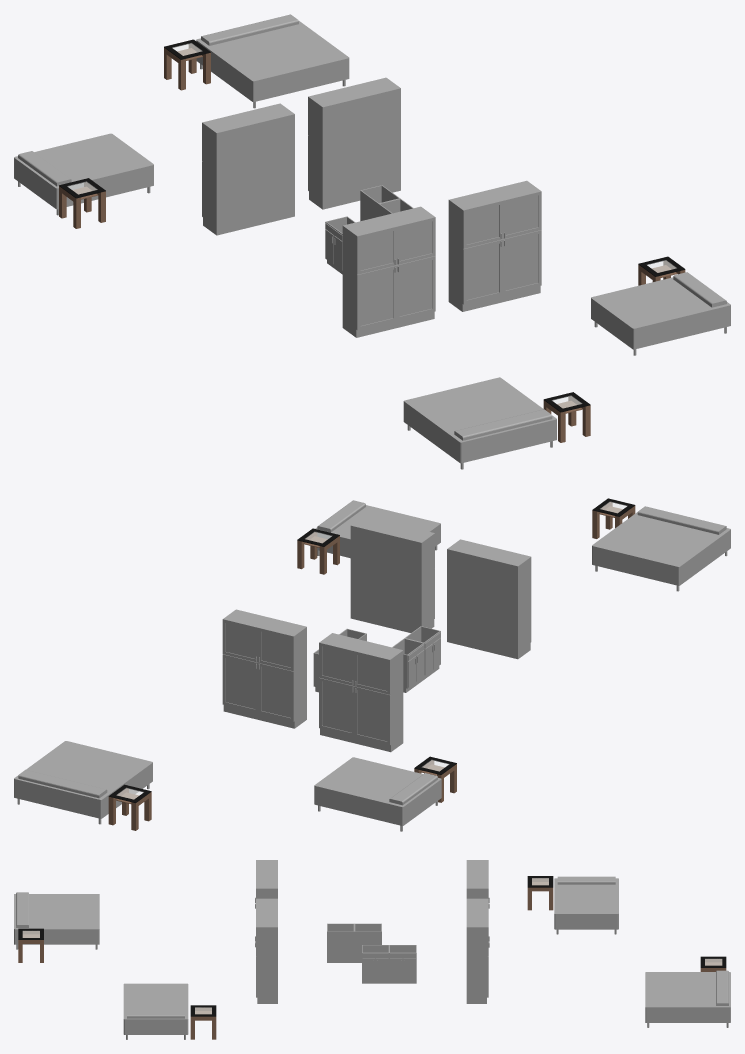
The model's file is Duplex_A_20110907_Level_2_IfcFurnishingElement.dae.
3 views of the same model, one above another, from view 1: azimuth 30°, elevation 25°; view 2: azimuth 150°, elevation 25°; view 3: azimuth 270°, elevation 25° (orthographic). The views are drawn at different scales.
Parts seen in each view (by area): view 1: 2OBrcmyk58NupXoVOHUtHN, 2OBrcmyk58NupXoVOHUtI8, 2OBrcmyk58NupXoVOHUtEr, 2OBrcmyk58NupXoVOHUtM4, 0wkEuT1wr1kOyafLY4vy3H, 0wkEuT1wr1kOyafLY4vyu$, 0wkEuT1wr1kOyafLY4vy6k, 0wkEuT1wr1kOyafLY4vy4F, 0wkEuT1wr1kOyafLY4vy3G, 0wkEuT1wr1kOyafLY4vy_8, 0wkEuT1wr1kOyafLY4vy6l, 0wkEuT1wr1kOyafLY4vy4m (+6 smaller); view 2: 2OBrcmyk58NupXoVOHUtHN, 2OBrcmyk58NupXoVOHUtI8, 2OBrcmyk58NupXoVOHUtM4, 0wkEuT1wr1kOyafLY4vyu$, 0wkEuT1wr1kOyafLY4vy6k, 0wkEuT1wr1kOyafLY4vy4F, 0wkEuT1wr1kOyafLY4vy3H, 0wkEuT1wr1kOyafLY4vy3G, 0wkEuT1wr1kOyafLY4vy4m, 0wkEuT1wr1kOyafLY4vy_8, 0wkEuT1wr1kOyafLY4vy6l, 2OBrcmyk58NupXoVOHUtEr (+6 smaller); view 3: 2OBrcmyk58NupXoVOHUtI8, 2OBrcmyk58NupXoVOHUtHN, 2OBrcmyk58NupXoVOHUtM4, 2OBrcmyk58NupXoVOHUtEr, 0wkEuT1wr1kOyafLY4vy4m, 0wkEuT1wr1kOyafLY4vy3G, 2gRXFgjRn2HPE$YoDLX0mp, 2gRXFgjRn2HPE$YoDLX0ra, 2gRXFgjRn2HPE$YoDLX0rb, 2gRXFgjRn2HPE$YoDLX0q2, 2kvhekJrnDjRw0CDkKW$fQ, 2kvhekJrnDjRw0CDkKW$UD (+8 smaller).
Boxes of the visible parts, <box> form: 2OBrcmyk58NupXoVOHUtHN: <box>403,377,556,469</box>; 2OBrcmyk58NupXoVOHUtI8: <box>196,14,349,108</box>; 2OBrcmyk58NupXoVOHUtEr: <box>591,272,730,355</box>; 2OBrcmyk58NupXoVOHUtM4: <box>14,133,153,215</box>; 0wkEuT1wr1kOyafLY4vy3H: <box>448,190,502,311</box>; 0wkEuT1wr1kOyafLY4vyu$: <box>342,216,396,337</box>; 0wkEuT1wr1kOyafLY4vy6k: <box>202,113,255,235</box>; 0wkEuT1wr1kOyafLY4vy4F: <box>308,87,361,209</box>; 0wkEuT1wr1kOyafLY4vy3G: <box>488,180,541,302</box>; 0wkEuT1wr1kOyafLY4vy_8: <box>382,206,435,328</box>; 0wkEuT1wr1kOyafLY4vy6l: <box>241,103,294,225</box>; 0wkEuT1wr1kOyafLY4vy4m: <box>347,77,400,192</box>; 2OBrcmyk58NupXoVOHUtHN: <box>592,506,730,591</box>; 2OBrcmyk58NupXoVOHUtI8: <box>14,741,152,824</box>; 2OBrcmyk58NupXoVOHUtM4: <box>314,757,441,831</box>; 0wkEuT1wr1kOyafLY4vyu$: <box>482,548,531,659</box>; 0wkEuT1wr1kOyafLY4vy6k: <box>354,641,403,752</box>; 0wkEuT1wr1kOyafLY4vy4F: <box>258,618,306,728</box>; 0wkEuT1wr1kOyafLY4vy3H: <box>386,524,434,632</box>; 0wkEuT1wr1kOyafLY4vy3G: <box>350,516,399,626</box>; 0wkEuT1wr1kOyafLY4vy4m: <box>222,609,271,719</box>; 0wkEuT1wr1kOyafLY4vy_8: <box>447,539,495,650</box>; 0wkEuT1wr1kOyafLY4vy6l: <box>319,633,367,743</box>; 2OBrcmyk58NupXoVOHUtEr: <box>315,500,440,558</box>; 2OBrcmyk58NupXoVOHUtI8: <box>645,970,730,1027</box>; 2OBrcmyk58NupXoVOHUtHN: <box>14,892,99,949</box>; 2OBrcmyk58NupXoVOHUtM4: <box>554,876,618,934</box>; 2OBrcmyk58NupXoVOHUtEr: <box>123,983,188,1039</box>; 0wkEuT1wr1kOyafLY4vy4m: <box>466,913,489,1003</box>; 0wkEuT1wr1kOyafLY4vy3G: <box>255,913,277,1003</box>; 2gRXFgjRn2HPE$YoDLX0mp: <box>327,923,354,962</box>; 2gRXFgjRn2HPE$YoDLX0ra: <box>389,945,416,983</box>; 2gRXFgjRn2HPE$YoDLX0rb: <box>362,945,389,983</box>; 2gRXFgjRn2HPE$YoDLX0q2: <box>354,923,381,962</box>; 2kvhekJrnDjRw0CDkKW$fQ: <box>190,1005,216,1039</box>; 2kvhekJrnDjRw0CDkKW$UD: <box>527,876,553,910</box>.
Size of the model in its own units: 7.91 by 16.98 by 2.
